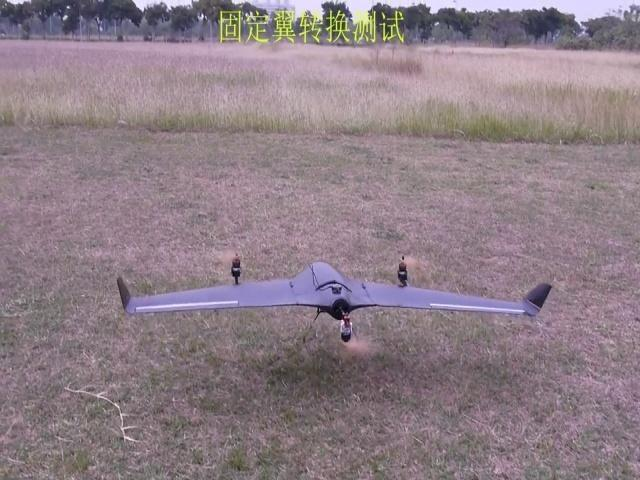Airplane: (116, 251, 552, 351)
